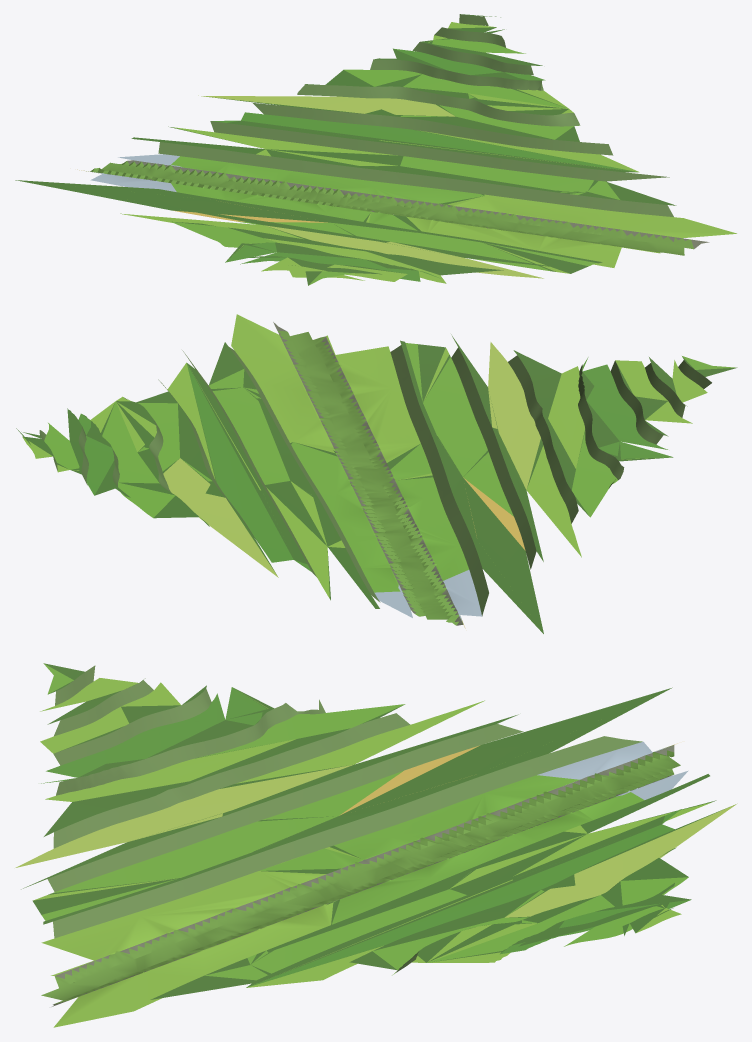
File: payo_land_xm3_y6.glb
3 renders of one model, top to bottom at view 1: azimuth 30°, elevation 25°; view 2: azimuth 150°, elevation 25°; view 3: azimuth 270°, elevation 25°, orthographic. The views are drawn at different scales.
Visible parts, largest first — view 1: payo_land_xm3_y6; view 2: payo_land_xm3_y6; view 3: payo_land_xm3_y6.
Boxes of the visible parts, left/top/right/bottom form: payo_land_xm3_y6: left=15, top=14, right=736, bottom=285; payo_land_xm3_y6: left=16, top=314, right=737, bottom=633; payo_land_xm3_y6: left=15, top=663, right=737, bottom=1027.
Bounding box in the file's own units: 322 × 42.87 × 299.
